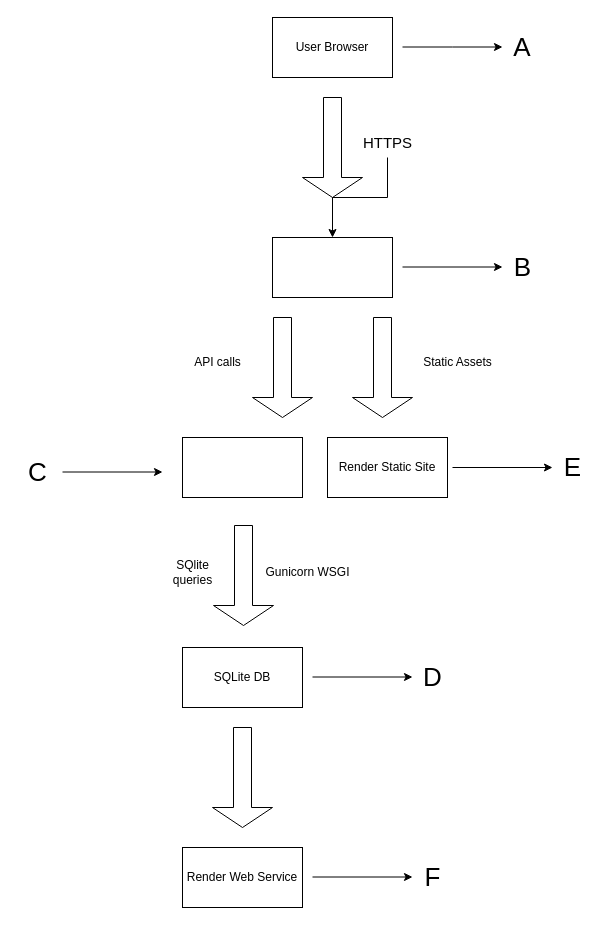
The diagram is 609 pixels wide and 925 high, and some of its shapes have lost their labels. Here are the shapes that lost their labels. From the top down, the centre of each, then its label:
At point 332,267: "React Frontend".
At point 242,467: "Django Backend".
